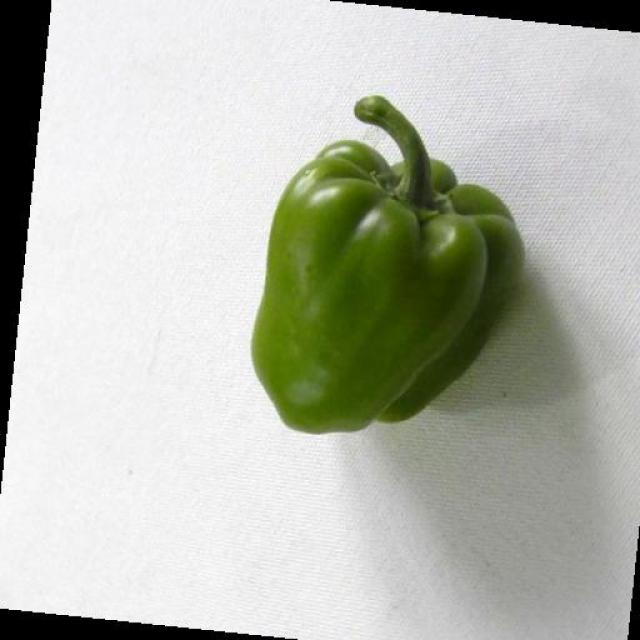Fresh_Capsicum: (245, 80, 530, 450)
